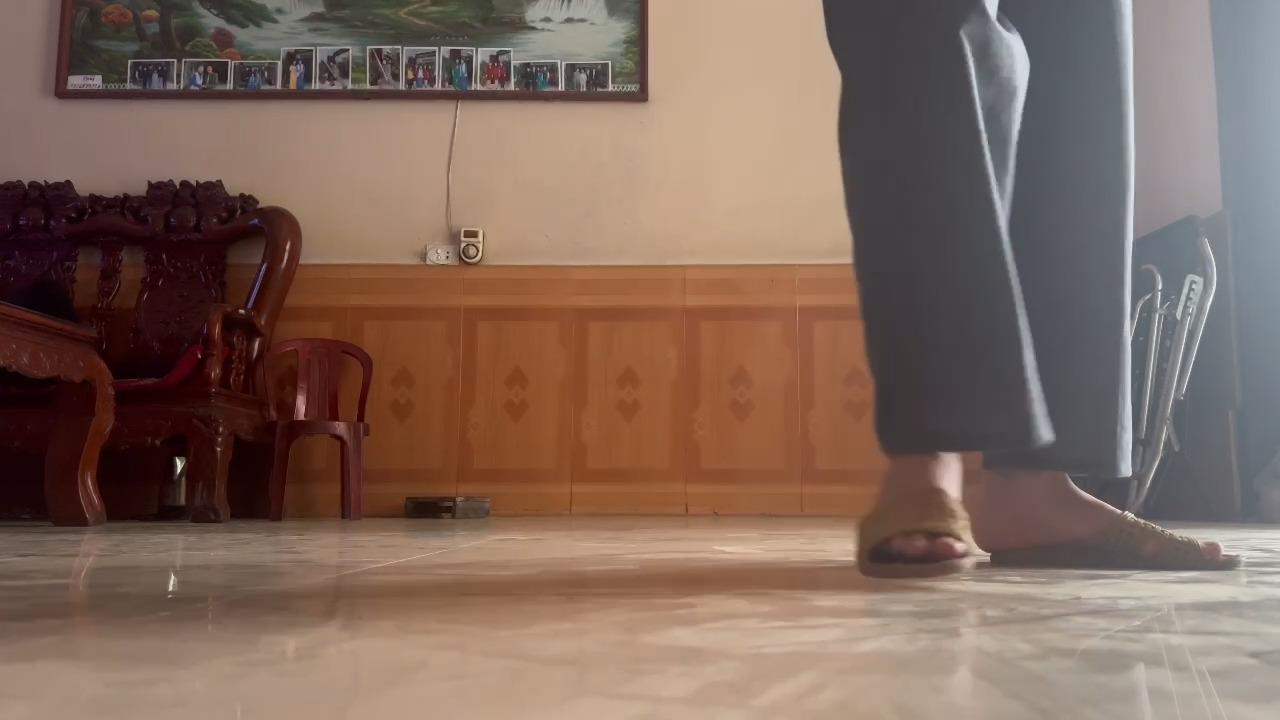no-boot: (985, 473, 1242, 576), (847, 457, 980, 586)
